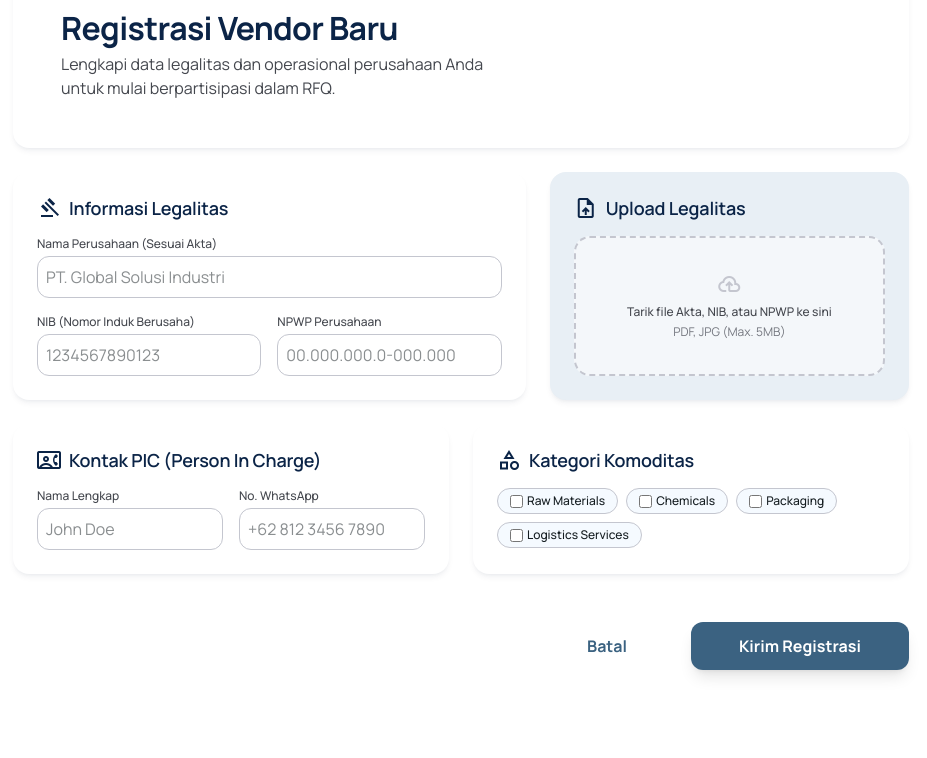
Test: VendorRegistrationPage › blocks submission and shows validation errors when the form is empty
(page scrolled)
Click the button "Kirim Registrasi": (800, 646) [691,622,909,670]
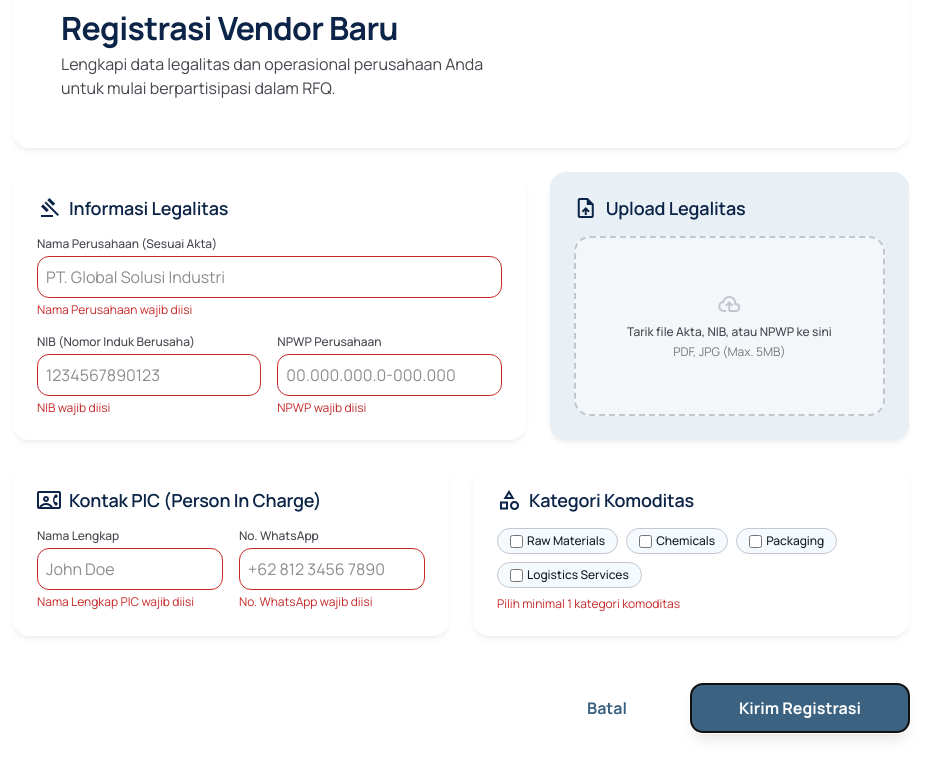
Check: the text "Nama Perusahaan wajib diisi" is shown, box [37,301,192,318]
Check: the text "Pilih minimal 1 kategori komoditas" is shown, box [497,595,680,612]
